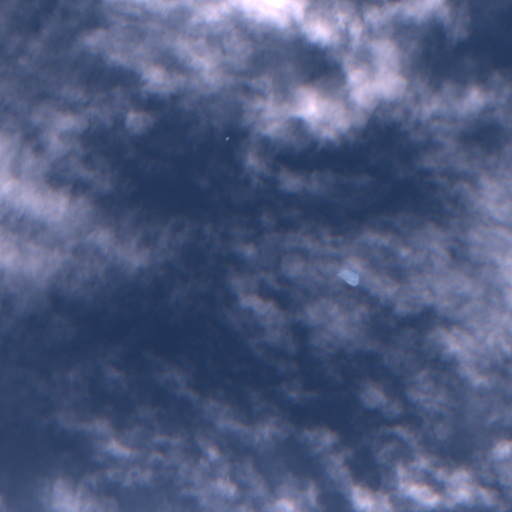Iceberg: (337, 269, 358, 285), (226, 137, 228, 140)
